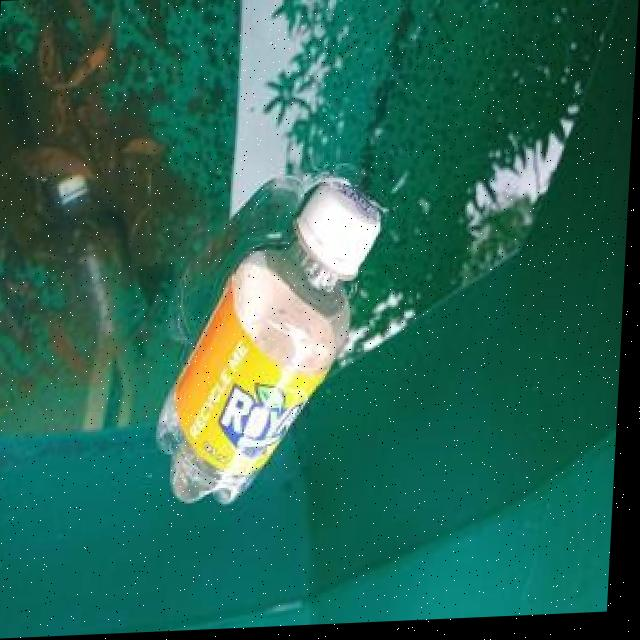bottle: (155, 179, 386, 517)
